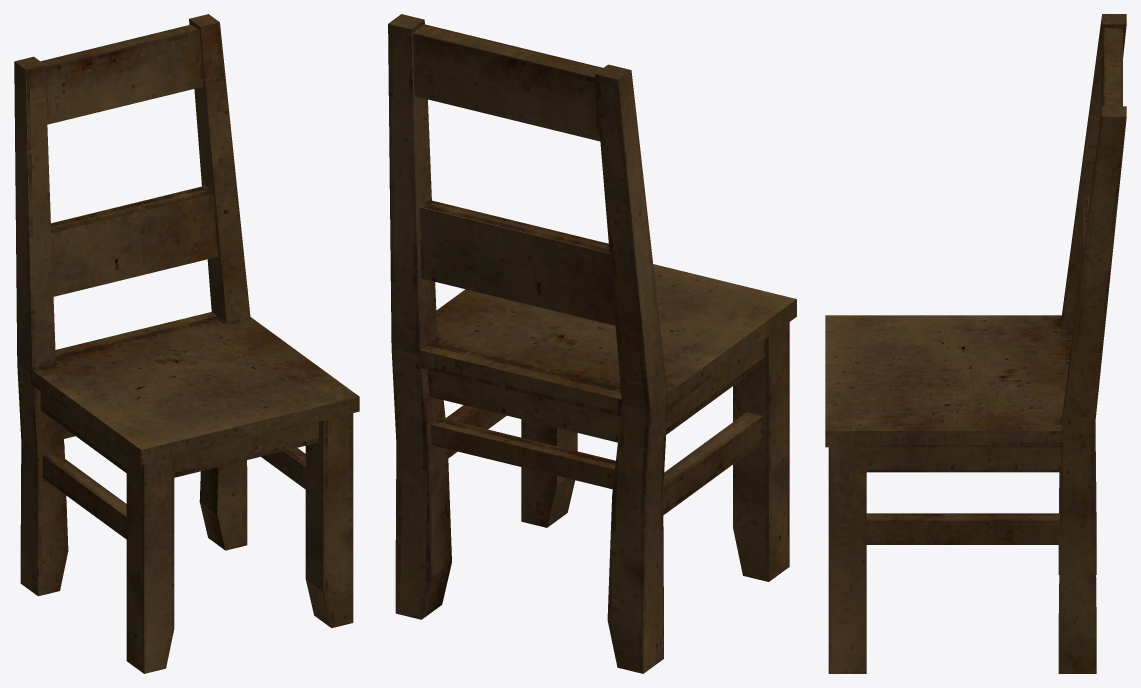
Rendered from psx_chair.glb.
3 renders of one model, left to right at view 1: azimuth 30°, elevation 25°; view 2: azimuth 150°, elevation 25°; view 3: azimuth 270°, elevation 25°, orthographic. The views are drawn at different scales.
Visible parts, largest first — view 1: SM_Chair; view 2: SM_Chair; view 3: SM_Chair.
Part boxes in pixels (box(x1,y1,x2,y2)): SM_Chair: box(14, 14, 359, 673); SM_Chair: box(388, 14, 796, 673); SM_Chair: box(825, 14, 1126, 673).
Size of the model in its own units: 0.5504 by 1.23 by 0.6064.
Materials: 1 (1 with a texture image).
